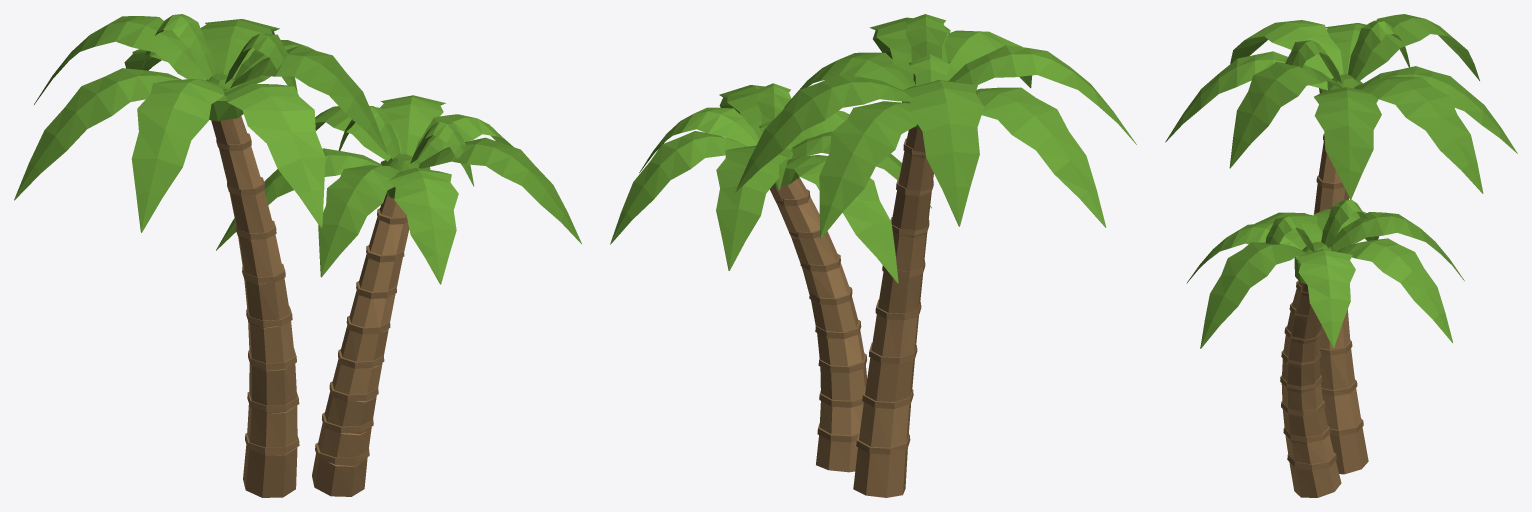
The model's file is 08_twin_palms.glb.
3 views of the same model, side by side, from view 1: azimuth 30°, elevation 25°; view 2: azimuth 150°, elevation 25°; view 3: azimuth 270°, elevation 25° (orthographic). The views are drawn at different scales.
Parts seen in each view (by area): view 1: 08_twin_palms; view 2: 08_twin_palms; view 3: 08_twin_palms.
Part boxes in pixels (x1,y1,x2,y2): 08_twin_palms: [14, 14, 581, 497]; 08_twin_palms: [610, 14, 1136, 497]; 08_twin_palms: [1165, 14, 1517, 497].
Size of the model in its own units: 3.51 by 3.24 by 2.49.
